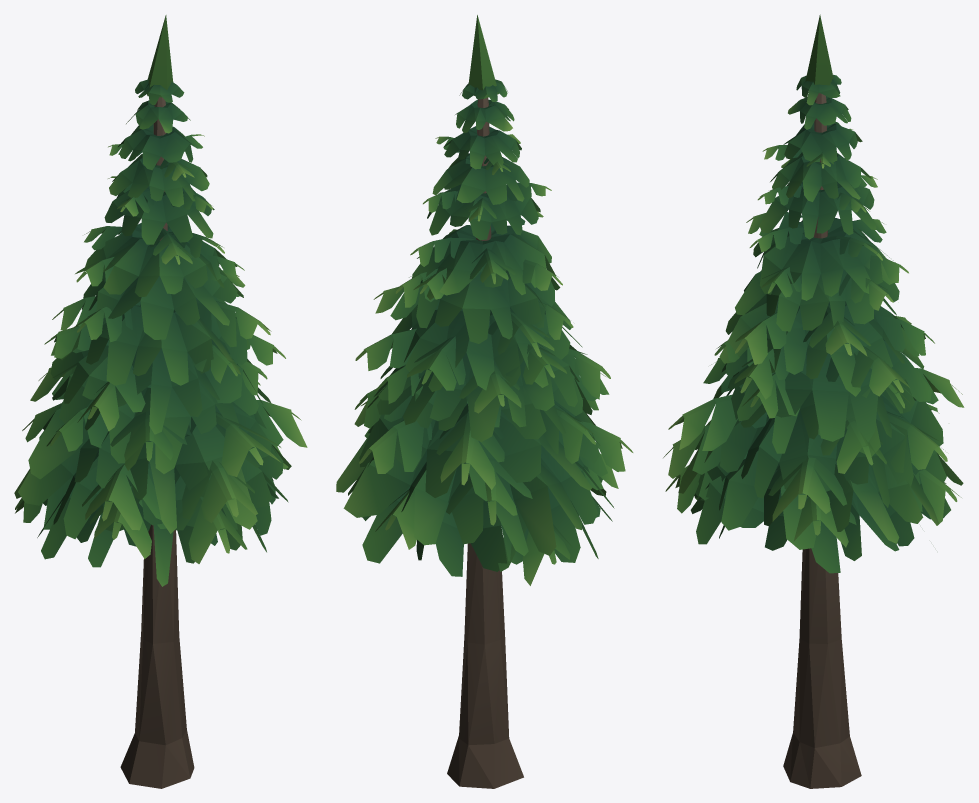
File: spruce_M_normal_tall_s26.glb
3 renders of one model, left to right at view 1: azimuth 30°, elevation 25°; view 2: azimuth 150°, elevation 25°; view 3: azimuth 270°, elevation 25°, orthographic.
Visible parts, largest first — view 1: Tree; view 2: Tree; view 3: Tree.
Boxes of the visible parts, <box> form: Tree: <box>14,15,307,788</box>; Tree: <box>336,15,633,788</box>; Tree: <box>663,14,964,788</box>.
Size of what is drawn, in the model's own units: 2.97 by 8.62 by 3.09.
